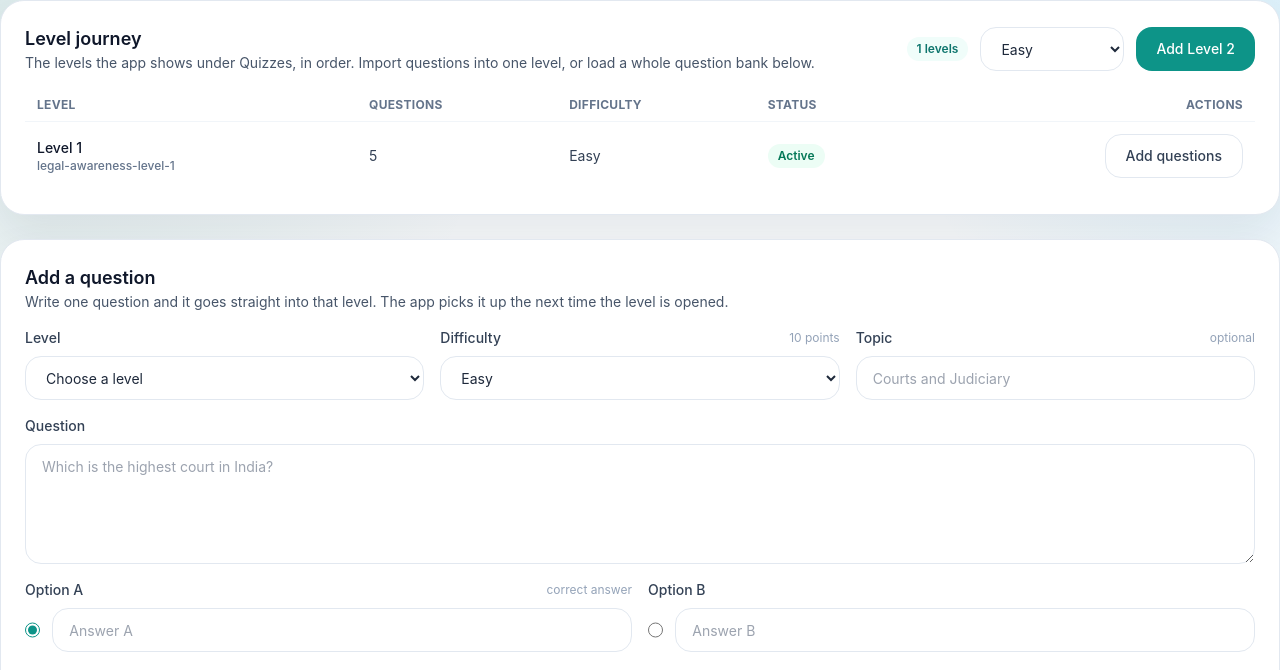
LevelsPanel › will not add a question with an empty option
The width and height of the screenshot is (1280, 670).
expect the text "legal-awareness-level-1" is shown: met, box [37,158,175,173]
Select "Level 1 (5 questions)" in the dropdown labelled "Level": (225, 378) [25,356,424,400]
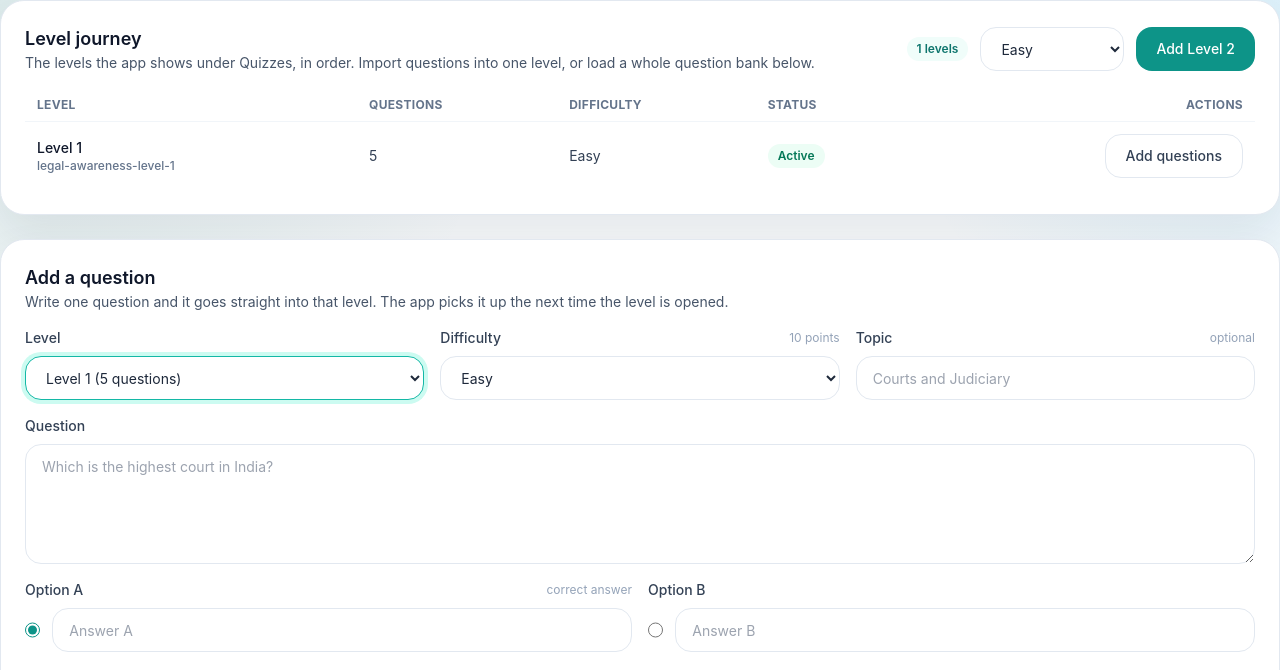
In the text box with placeholder "Which is the highest court in India?": (640, 504) [25,444,1255,564], type "Half-written question?"
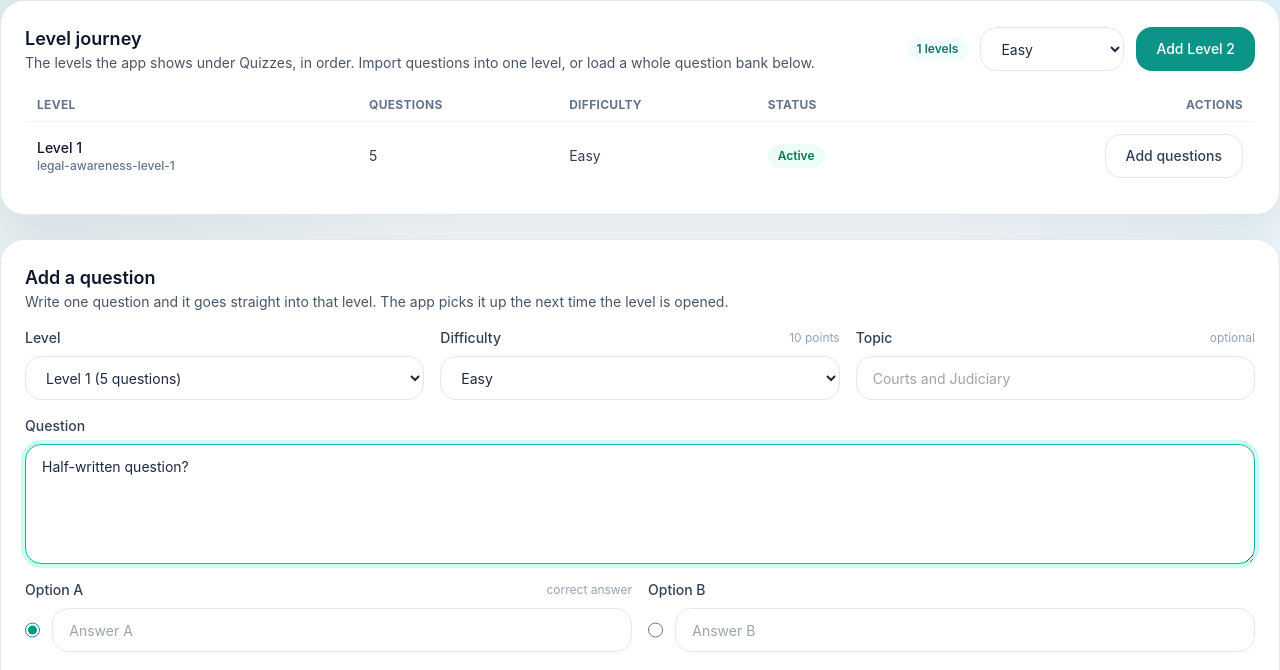
In the field with placeholder "Answer A": (342, 630) [52,608,632,652], type "Only this one"
(page scrolled)
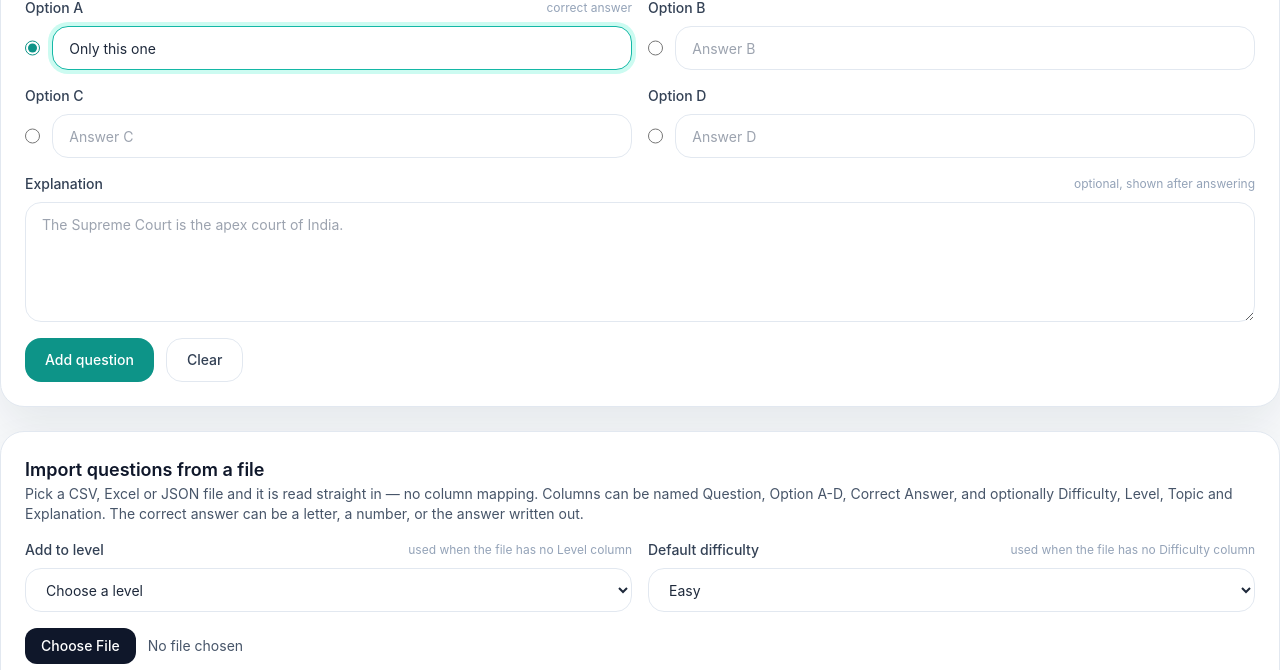
Click the button "Add question": (89, 360) [25,338,154,382]
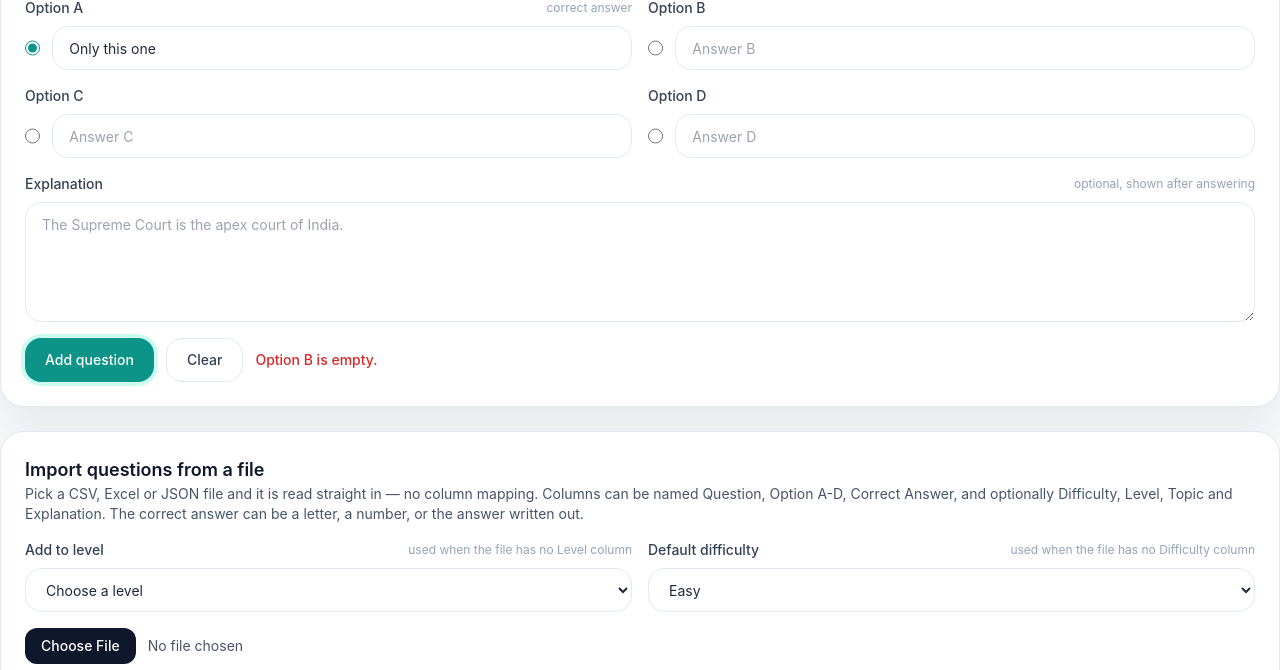
expect the text "Option B is empty." is shown: met, box [255,350,378,370]
